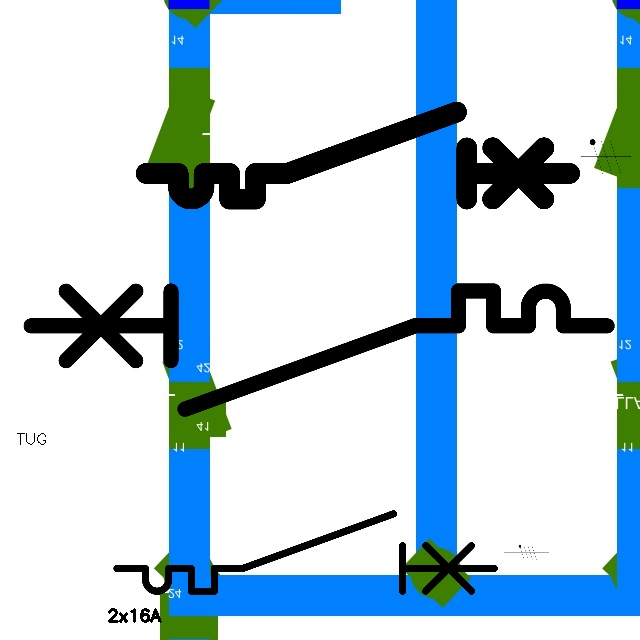interruptor_termomagnetico: (16, 276, 622, 424), (135, 101, 581, 210), (107, 504, 504, 601)
